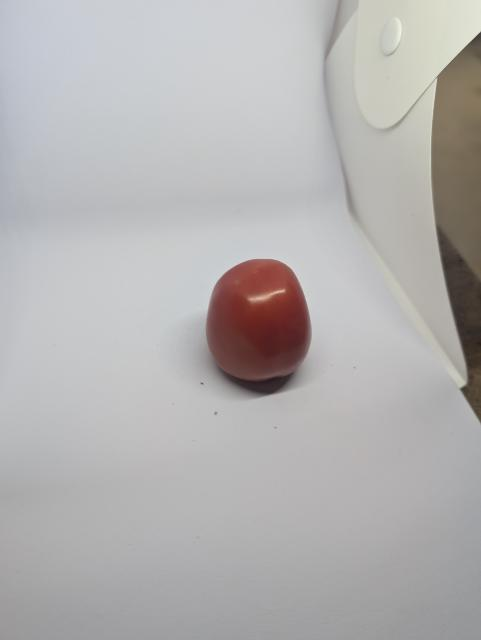red: (204, 257, 316, 385)
